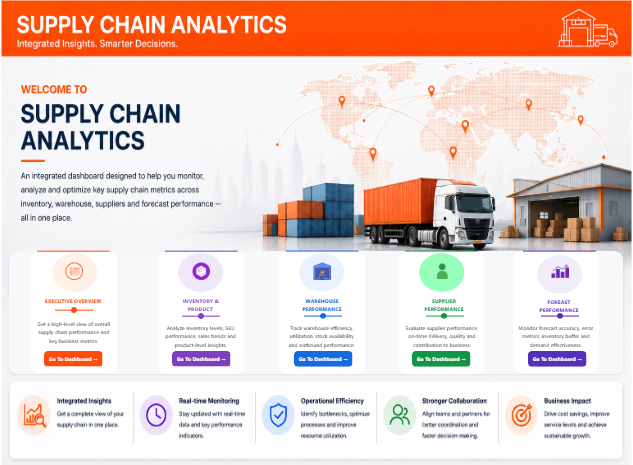

Layout of this report page (visuals, bound fields, positions):
{"tool":"powerbi","page":{"name":"Home","canvas":[1280,950],"ordinal":0},"visuals":[{"type":"image","box":[10,0,1270,950],"z":0},{"type":"shape","box":[30.7,506,1228.7,246],"z":1000},{"type":"shape","box":[74,506.7,172,244.7],"z":2000},{"type":"shape","box":[86.7,500,144.7,12.7],"z":3000},{"type":"shape","box":[115.3,510.7,90.7,78],"z":4000},{"type":"image","box":[130.7,524.7,60,45.3],"z":5000},{"type":"textbox","box":[93.3,589.3,132,27.3],"z":6000},{"type":"textbox","box":[82.7,635.3,155.3,62.7],"z":7000},{"type":"shape","box":[327.3,507.3,172,244],"z":8000},{"type":"shape","box":[121.3,618.7,76,12.7],"z":9000},{"type":"shape","box":[154.7,618.7,12,12],"z":10000},{"type":"actionButton","box":[100.7,706,117.3,31.3],"z":11000},{"type":"shape","box":[341.3,500.7,144.7,12.7],"z":12000},{"type":"shape","box":[368,510.7,90.7,78],"z":13000},{"type":"image","box":[384,524.7,60,45.3],"z":14000},{"type":"textbox","box":[348,589.3,132,46],"z":15000},{"type":"shape","box":[376,630,76,12.7],"z":16000},{"type":"shape","box":[408.7,630.7,12,12],"z":17000},{"type":"textbox","box":[335.4,643.1,155.4,63.1],"z":18000},{"type":"actionButton","box":[356,706,117.3,31.3],"z":19000},{"type":"shape","box":[570,506.2,172.3,246.2],"z":20000},{"type":"shape","box":[583.8,500.8,144.6,12.3],"z":21000},{"type":"shape","box":[610.8,510.8,90.8,77.7],"z":22000},{"type":"textbox","box":[590,589,132.3,46.2],"z":23000},{"type":"shape","box":[620,630,76.2,12.3],"z":24000},{"type":"shape","box":[651.5,630,12.3,11.5],"z":25000},{"type":"textbox","box":[578.5,643.1,155.4,63.1],"z":26000},{"type":"actionButton","box":[599.2,706.2,116.9,31.5],"z":27000},{"type":"image","box":[626.2,524.6,60,45.4],"z":28000},{"type":"shape","box":[807.7,506.2,172.3,246.2],"z":29000},{"type":"shape","box":[822.3,500,144.6,12.3],"z":30000},{"type":"shape","box":[849.2,510,90.8,77.7],"z":31000},{"type":"image","box":[865.4,524.6,60,44.6],"z":32000},{"type":"textbox","box":[834.6,589,132.3,46.2],"z":33000},{"type":"shape","box":[863.8,629.2,76.2,12.3],"z":34000},{"type":"shape","box":[894.6,630,12.3,11.5],"z":35000},{"type":"textbox","box":[813.1,643.1,163.8,63.1],"z":36000},{"type":"actionButton","box":[836.9,706.2,116.9,31.5],"z":37000},{"type":"shape","box":[1038.5,506.9,172.3,244.6],"z":38000},{"type":"shape","box":[1058.5,500.8,144.6,12.3],"z":39000},{"type":"shape","box":[1086.2,513.1,90.8,77.7],"z":40000},{"type":"image","box":[1101.5,524.6,60,45.4],"z":41000},{"type":"textbox","box":[1064.6,591.5,132.3,46.2],"z":42000},{"type":"shape","box":[1093.1,629.2,76.2,12.3],"z":43000},{"type":"shape","box":[1126.2,630,12.3,11.5],"z":44000},{"type":"textbox","box":[1042.3,643.1,163.8,63.1],"z":45000},{"type":"actionButton","box":[1067.7,706.2,116.9,31.5],"z":46000}]}

Visuals, with their boxes in screenshot pixels (x1, y1, x2, y2), scaled from the page's 1280x950 canvas onto the 633x465 screenshot:
image: [5,0,632,464]
shape: [15,248,623,368]
shape: [37,248,122,368]
shape: [43,245,114,251]
shape: [57,250,102,288]
image: [65,257,94,279]
textbox: [46,288,111,302]
textbox: [41,311,118,342]
shape: [162,248,247,368]
shape: [60,303,98,309]
shape: [77,303,82,309]
actionButton: [50,346,108,361]
shape: [169,245,240,251]
shape: [182,250,227,288]
image: [190,257,220,279]
textbox: [172,288,237,311]
shape: [186,308,224,315]
shape: [202,309,208,315]
textbox: [166,315,243,346]
actionButton: [176,346,234,361]
shape: [282,248,367,368]
shape: [289,245,360,251]
shape: [302,250,347,288]
textbox: [292,288,357,311]
shape: [307,308,344,314]
shape: [322,308,328,314]
textbox: [286,315,363,346]
actionButton: [296,346,354,361]
image: [310,257,339,279]
shape: [399,248,485,368]
shape: [407,245,478,251]
shape: [420,250,465,288]
image: [428,257,458,279]
textbox: [413,288,478,311]
shape: [427,308,465,314]
shape: [442,308,448,314]
textbox: [402,315,483,346]
actionButton: [414,346,472,361]
shape: [514,248,599,368]
shape: [523,245,595,251]
shape: [537,251,582,289]
image: [545,257,574,279]
textbox: [526,290,592,312]
shape: [541,308,578,314]
shape: [557,308,563,314]
textbox: [515,315,596,346]
actionButton: [528,346,586,361]
